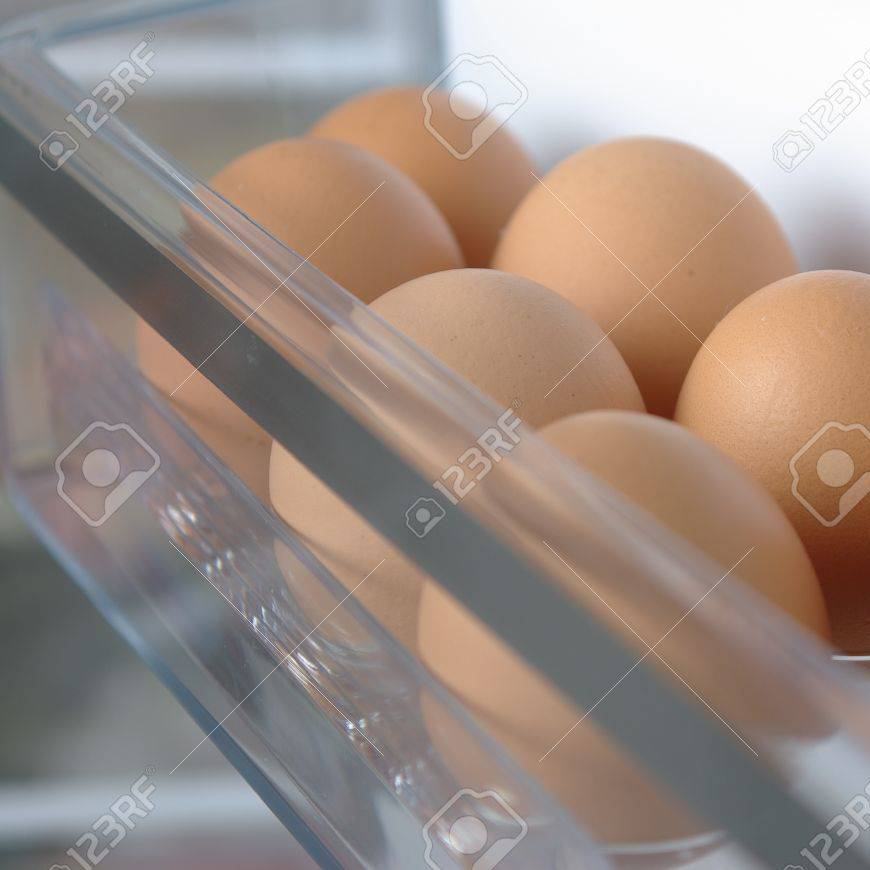egg: (138, 80, 870, 842)
